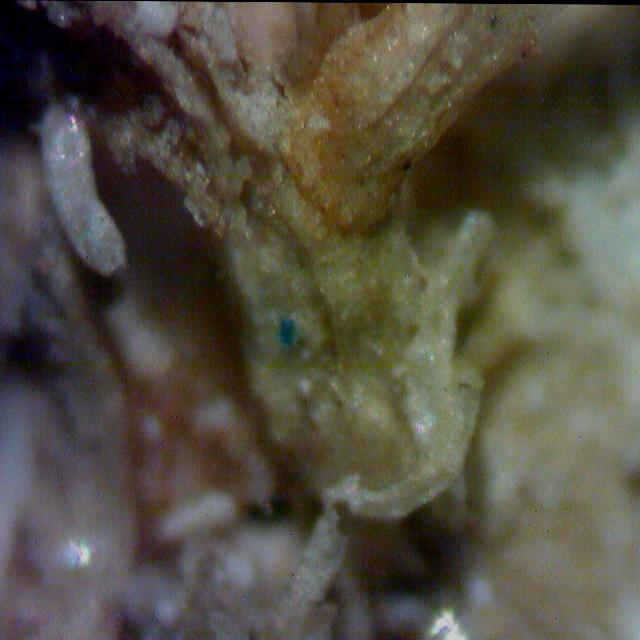microplastic: (10, 0, 635, 640)
